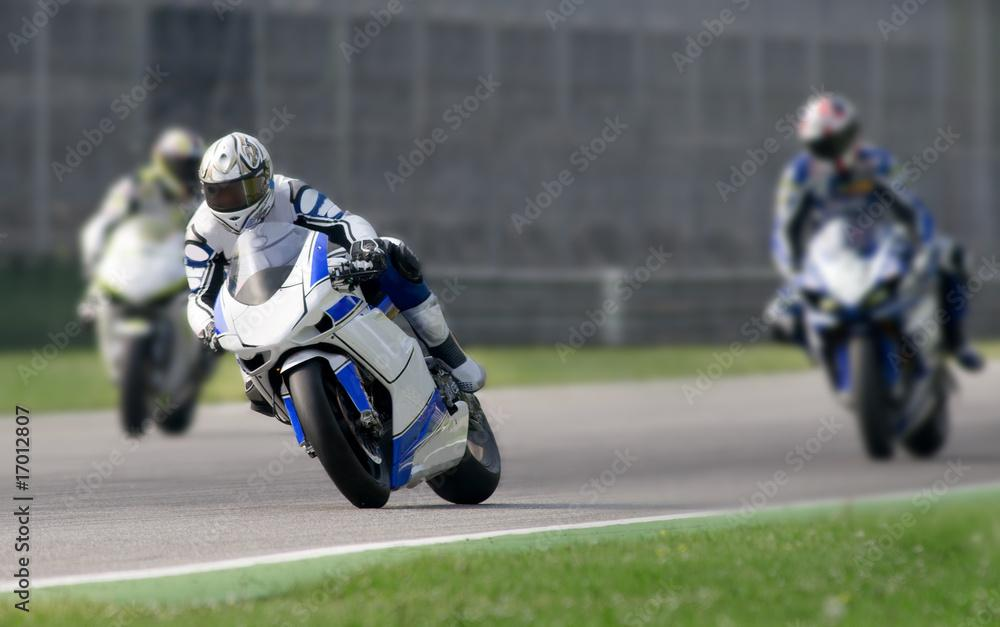helmet: (197, 131, 276, 239)
